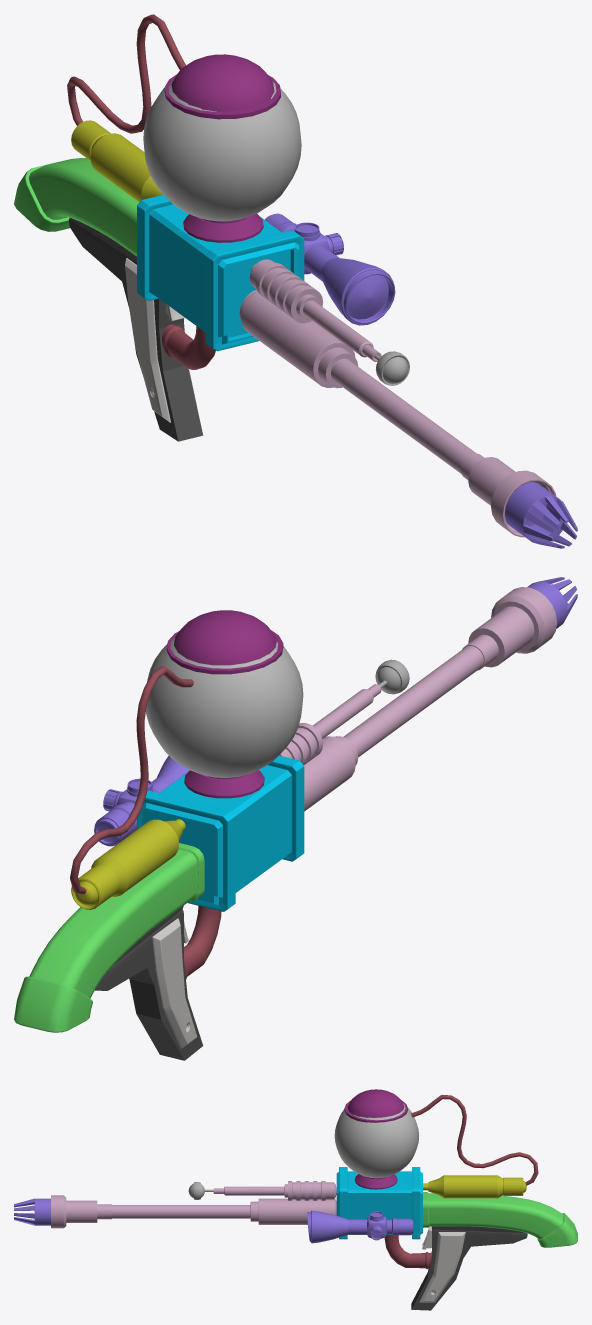
The model's file is level3_gun.fbx.
The picture shows the model from 3 angles, top to bottom: view 1: azimuth 30°, elevation 25°; view 2: azimuth 150°, elevation 25°; view 3: azimuth 270°, elevation 25°; orthographic projection. The views are drawn at different scales.
Parts seen in each view (by area): view 1: front_shot, pSphere1, box1, pCylinder6, candyhat1, gunback1, pCube4, grip1, barrel1, pCube7, lolipop; view 2: pSphere1, gunback1, front_shot, box1, candyhat1, barrel1, pCube4, grip1, pCylinder6, pCube7, lolipop; view 3: front_shot, gunback1, pSphere1, box1, pCylinder6, pCube4, barrel1, candyhat1, grip1, pCube7.
Part boxes in pixels (x1=…): front_shot: x1=239, y1=259, x2=556, y2=537; pSphere1: x1=143, y1=79, x2=301, y2=221; box1: x1=137, y1=194, x2=304, y2=351; pCylinder6: x1=264, y1=213, x2=577, y2=548; candyhat1: x1=164, y1=54, x2=280, y2=242; gunback1: x1=14, y1=158, x2=138, y2=256; pCube4: x1=69, y1=218, x2=203, y2=441; grip1: x1=67, y1=14, x2=215, y2=369; barrel1: x1=71, y1=120, x2=163, y2=202; pCube7: x1=125, y1=258, x2=197, y2=422; lolipop: x1=374, y1=351, x2=409, y2=385; pSphere1: x1=146, y1=636, x2=303, y2=777; gunback1: x1=14, y1=843, x2=204, y2=1032; front_shot: x1=279, y1=587, x2=557, y2=811; box1: x1=137, y1=755, x2=304, y2=911; candyhat1: x1=166, y1=610, x2=283, y2=798; barrel1: x1=71, y1=819, x2=185, y2=909; pCube4: x1=94, y1=905, x2=203, y2=1060; grip1: x1=70, y1=666, x2=221, y2=978; pCylinder6: x1=94, y1=577, x2=577, y2=846; pCube7: x1=152, y1=909, x2=197, y2=1048; lolipop: x1=375, y1=659, x2=409, y2=694; front_shot: x1=51, y1=1181, x2=336, y2=1228; gunback1: x1=423, y1=1192, x2=577, y2=1247; pSphere1: x1=334, y1=1103, x2=418, y2=1178; box1: x1=336, y1=1167, x2=422, y2=1239; pCylinder6: x1=14, y1=1198, x2=413, y2=1243; pCube4: x1=411, y1=1226, x2=527, y2=1310; barrel1: x1=423, y1=1175, x2=526, y2=1198; candyhat1: x1=344, y1=1089, x2=407, y2=1189; grip1: x1=384, y1=1095, x2=538, y2=1269; pCube7: x1=419, y1=1226, x2=465, y2=1302.
Size of the model in its own units: 21.18 by 44.17 by 105.
